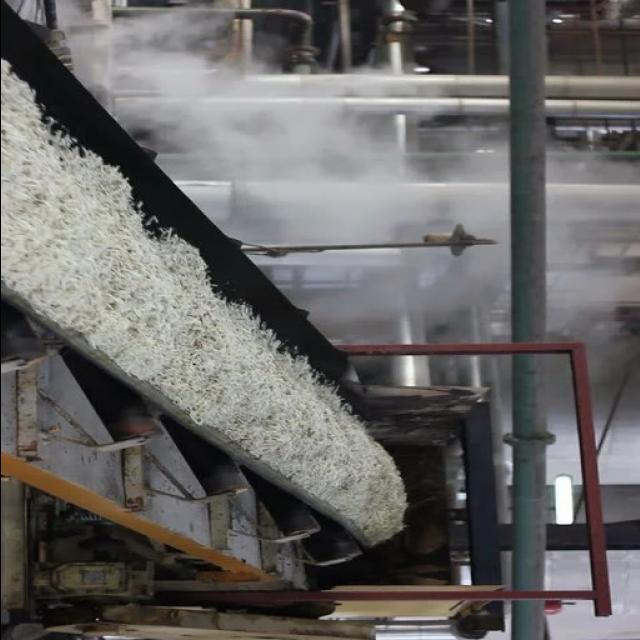conveyor: (2, 0, 389, 538)
